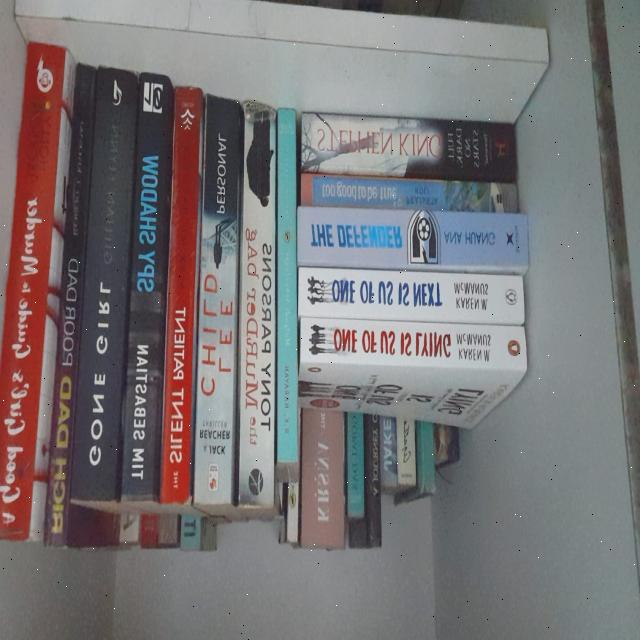book: (0, 44, 65, 541), (70, 64, 137, 503), (45, 71, 95, 543), (122, 84, 173, 505), (194, 94, 240, 516), (162, 86, 202, 508), (240, 102, 277, 506), (297, 207, 531, 268), (306, 114, 516, 179), (300, 317, 527, 368), (299, 273, 517, 324), (307, 172, 510, 209), (278, 107, 297, 461)
